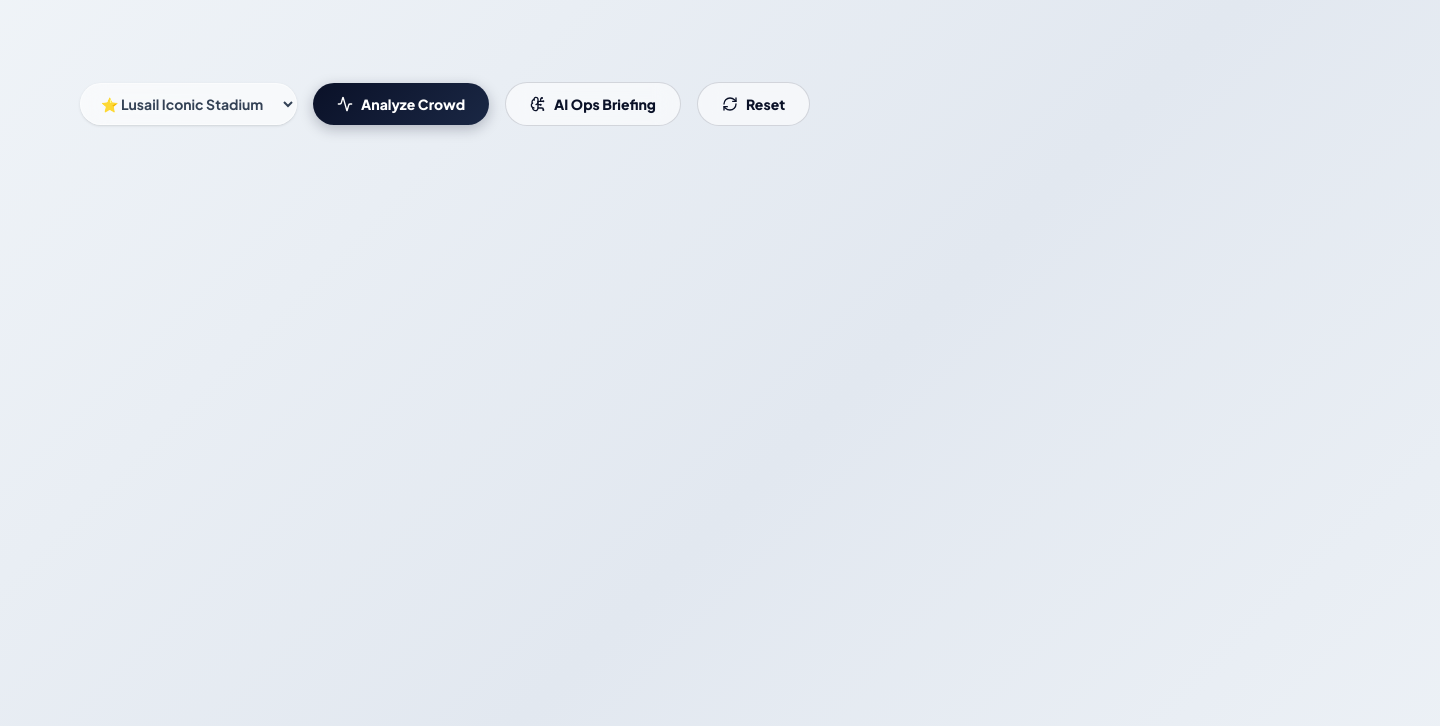
Test: Dashboard › displays operational briefing panel after clicking Ops Briefing button
The image size is (1440, 726).
Click the button "AI Ops Briefing" at (593, 104), box [505,82,681,126]
(page scrolled)
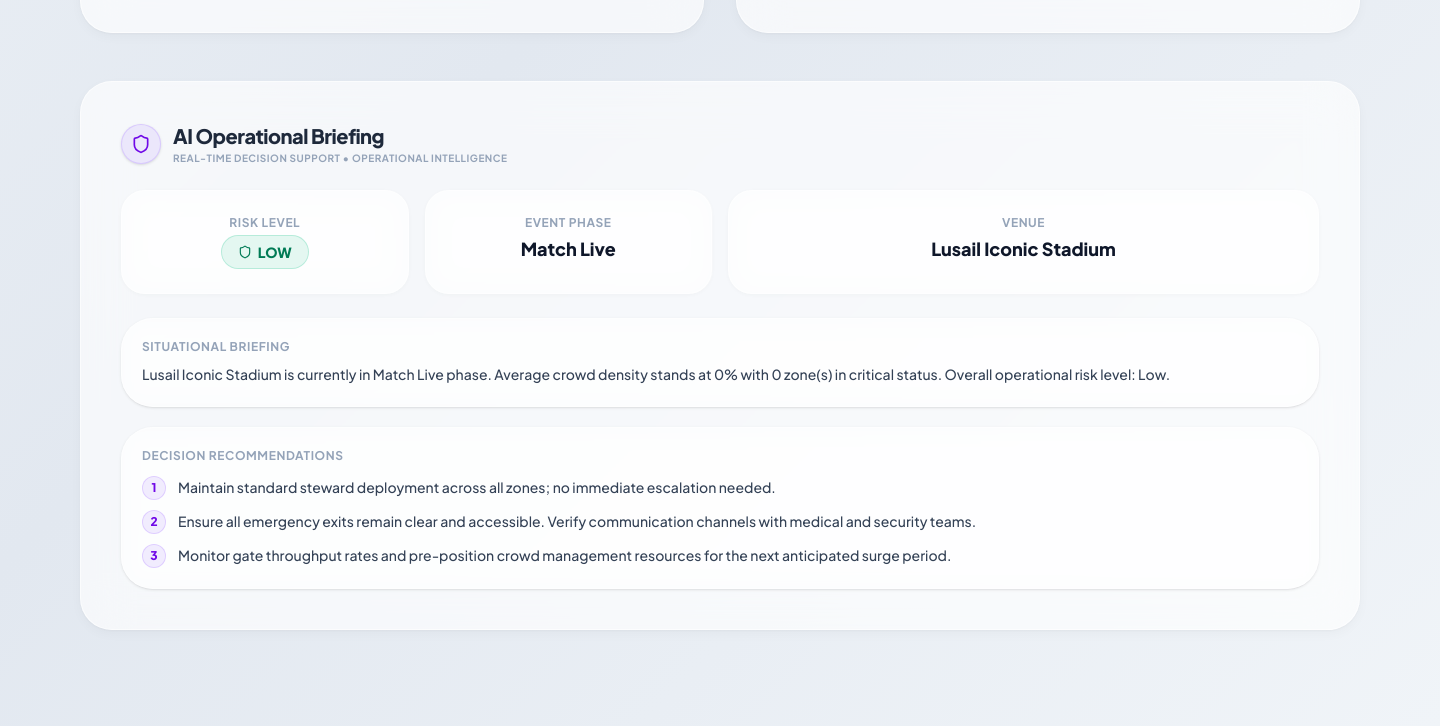
Now the heading "AI Operational Briefing" is shown, box [173,123,384,148]
Now the text "Situational Briefing" is shown, box [142,339,290,354]
Now the text "Overall operational risk level" is shown, box [142,365,1170,383]
